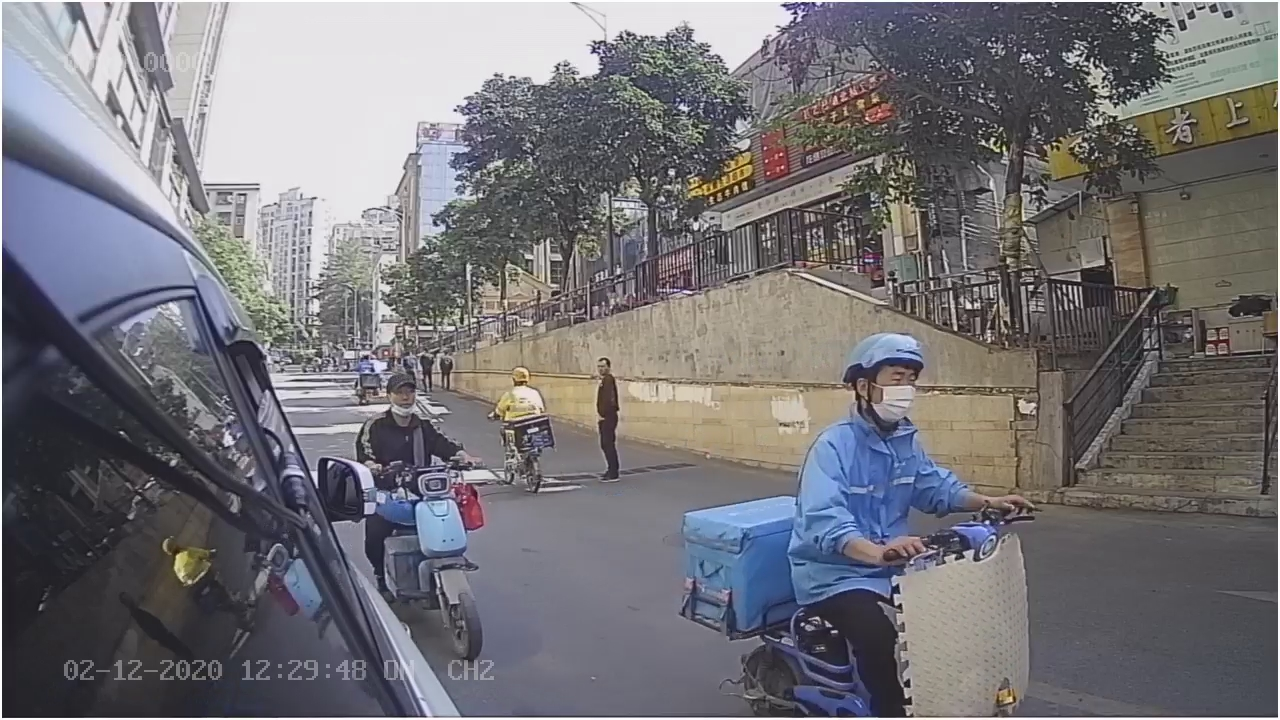person: (788, 325, 965, 560)
